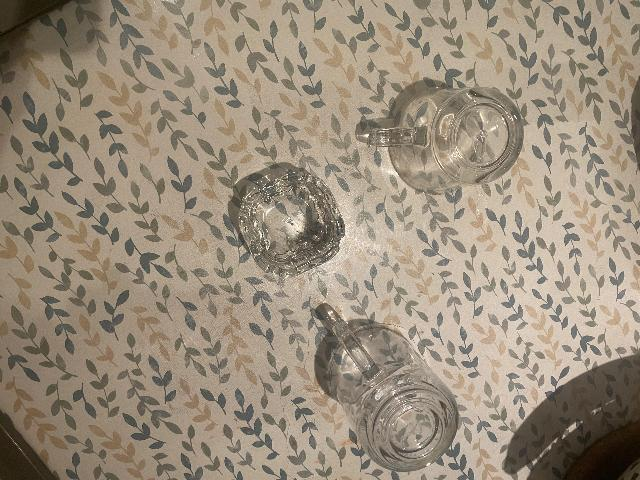Cam: (325, 315, 460, 473), (367, 85, 536, 198), (237, 167, 350, 283)
